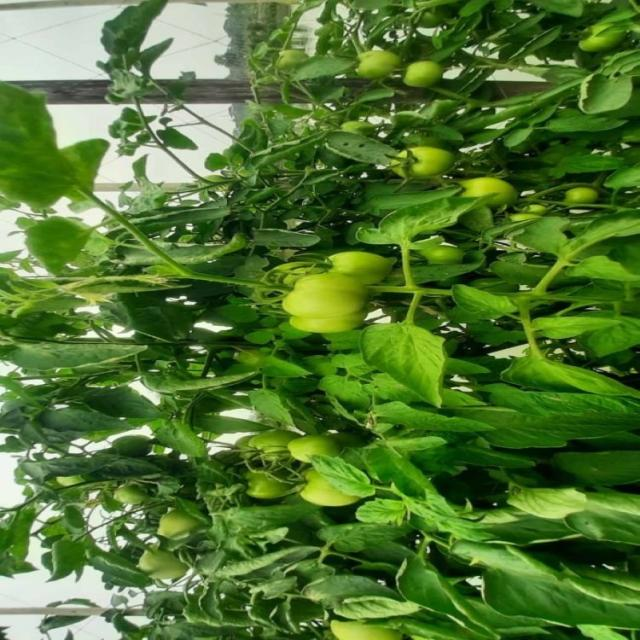tomato: (277, 277, 374, 331), (308, 248, 401, 296), (289, 471, 360, 516), (387, 143, 459, 185), (455, 171, 516, 217), (283, 432, 344, 469), (327, 611, 398, 640), (134, 546, 186, 581), (153, 503, 203, 539), (402, 63, 456, 93), (351, 48, 395, 82), (566, 186, 596, 215)
